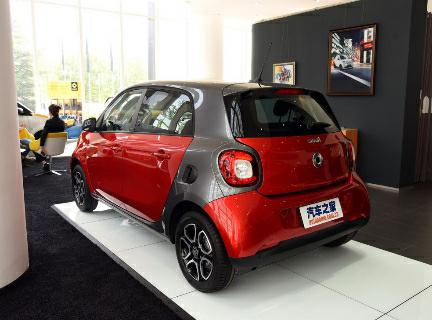smart-forfour: (78, 72, 370, 273)
